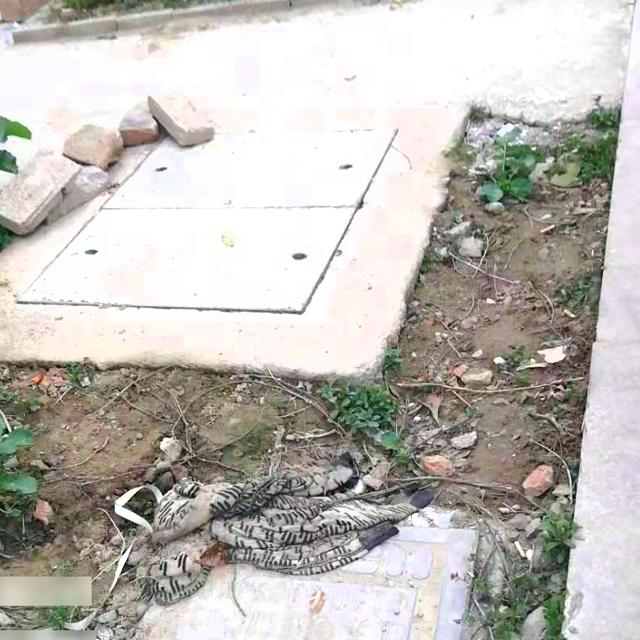good: (11, 125, 396, 316), (21, 518, 481, 640)
